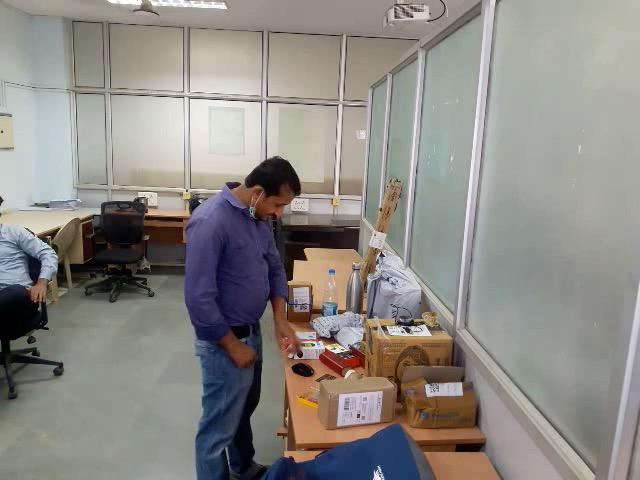shoplifting: (168, 295, 309, 396)
